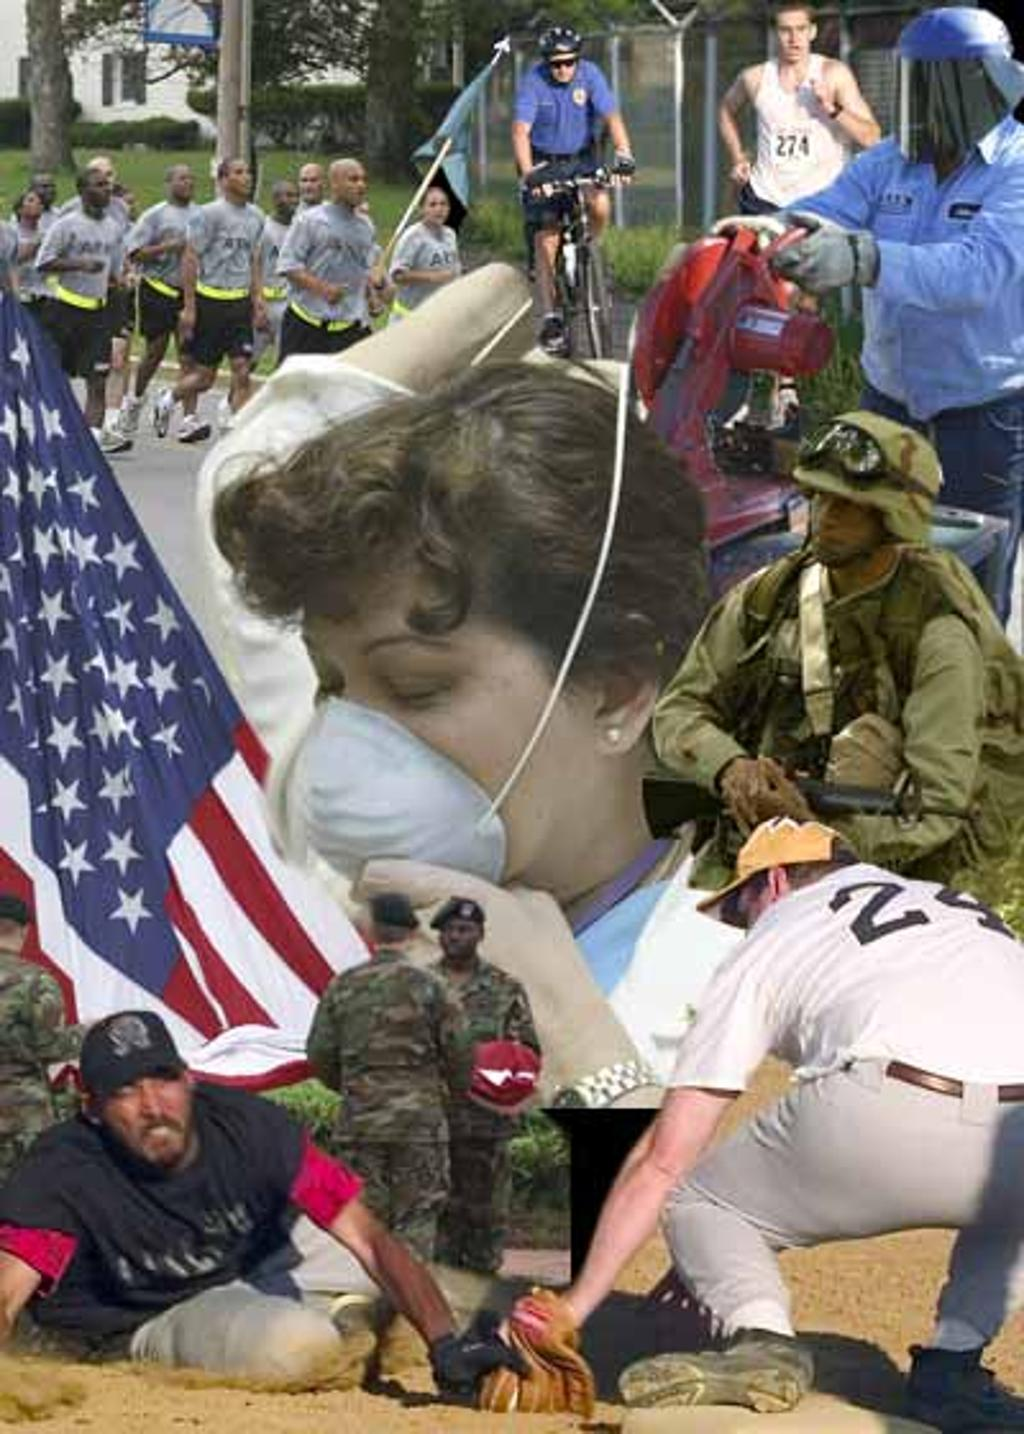face: (102, 1058, 185, 1163), (911, 51, 977, 140), (810, 472, 871, 562), (736, 871, 792, 960), (440, 917, 477, 955), (777, 13, 808, 54), (338, 169, 366, 205), (549, 50, 575, 82), (84, 175, 111, 206), (227, 162, 251, 195), (424, 193, 447, 223), (33, 174, 56, 201), (299, 170, 320, 198), (171, 171, 193, 197), (280, 188, 299, 214), (95, 163, 112, 190), (22, 194, 42, 215), (122, 195, 135, 218)
face_mask: (302, 542, 592, 891)
